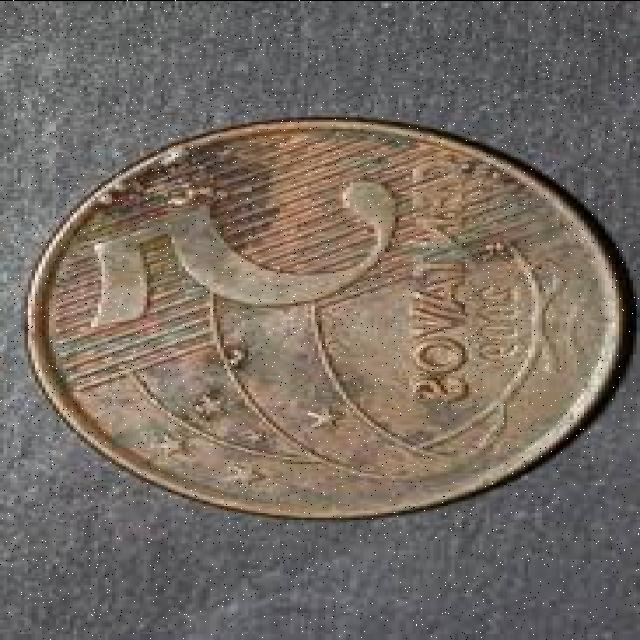5 cent: (27, 124, 618, 517)
